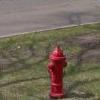Hydrant: (42, 35, 70, 100)
